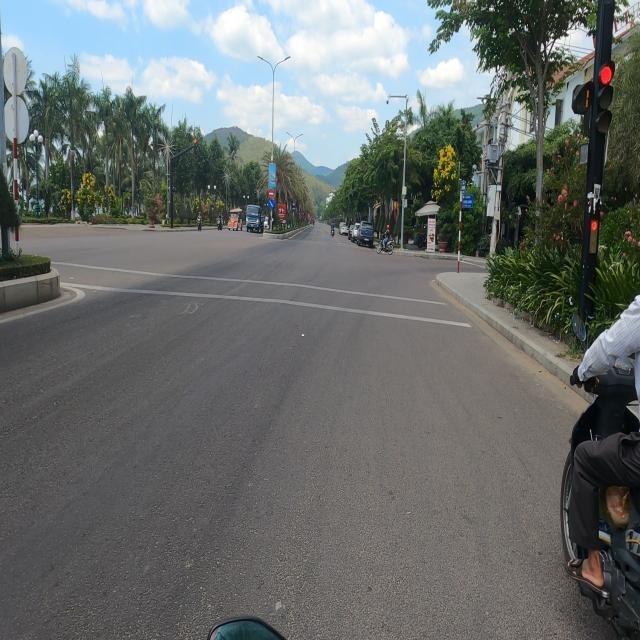walk-crossing: (72, 264, 476, 334)
